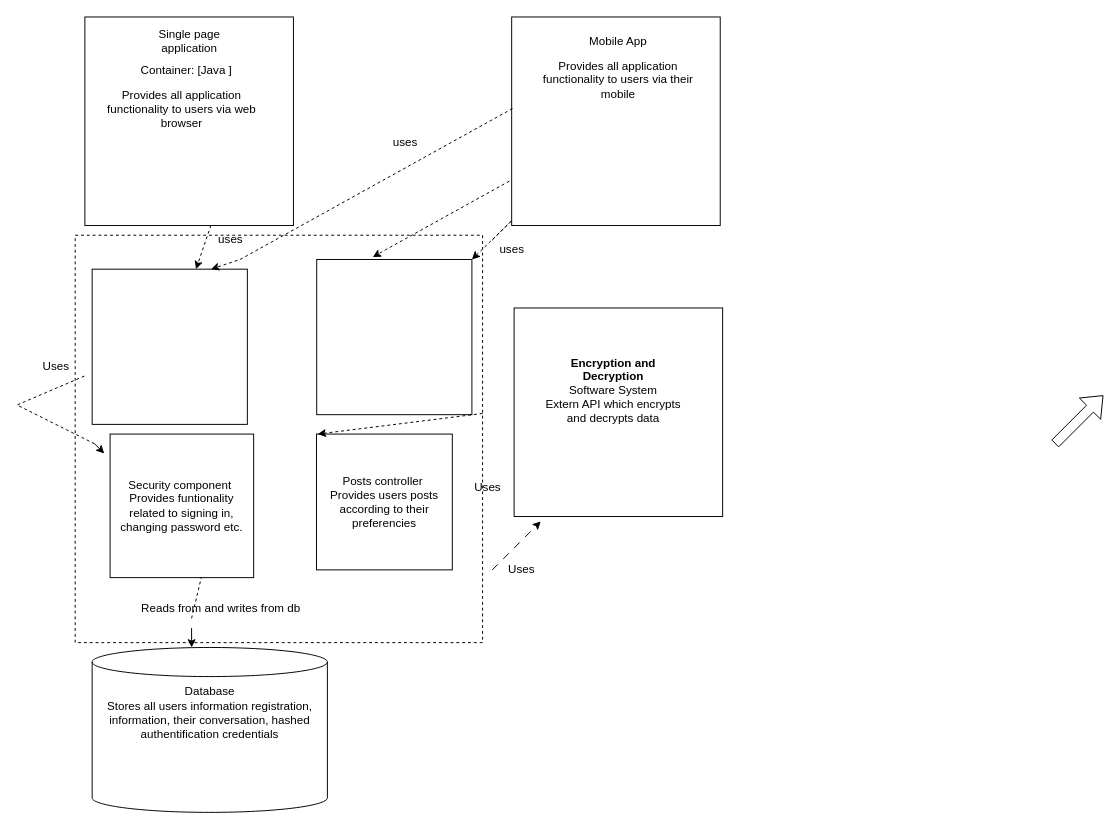
This 1120x829 diagram has some shape labels left out. Here are the shapes that lost their labels. From the top down, the box of each, then its label:
(91, 268, 247, 424): Sign In Controller Allow users to sign in in application
(316, 259, 472, 415): Ads Controller Provides users ads according to their preferences
